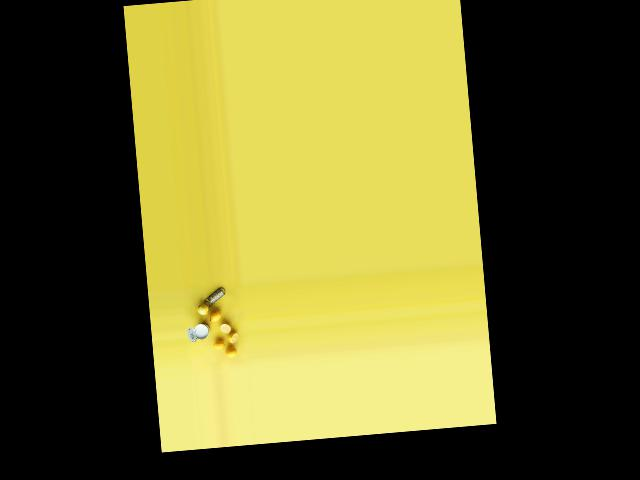lemon: (196, 304, 211, 317)
